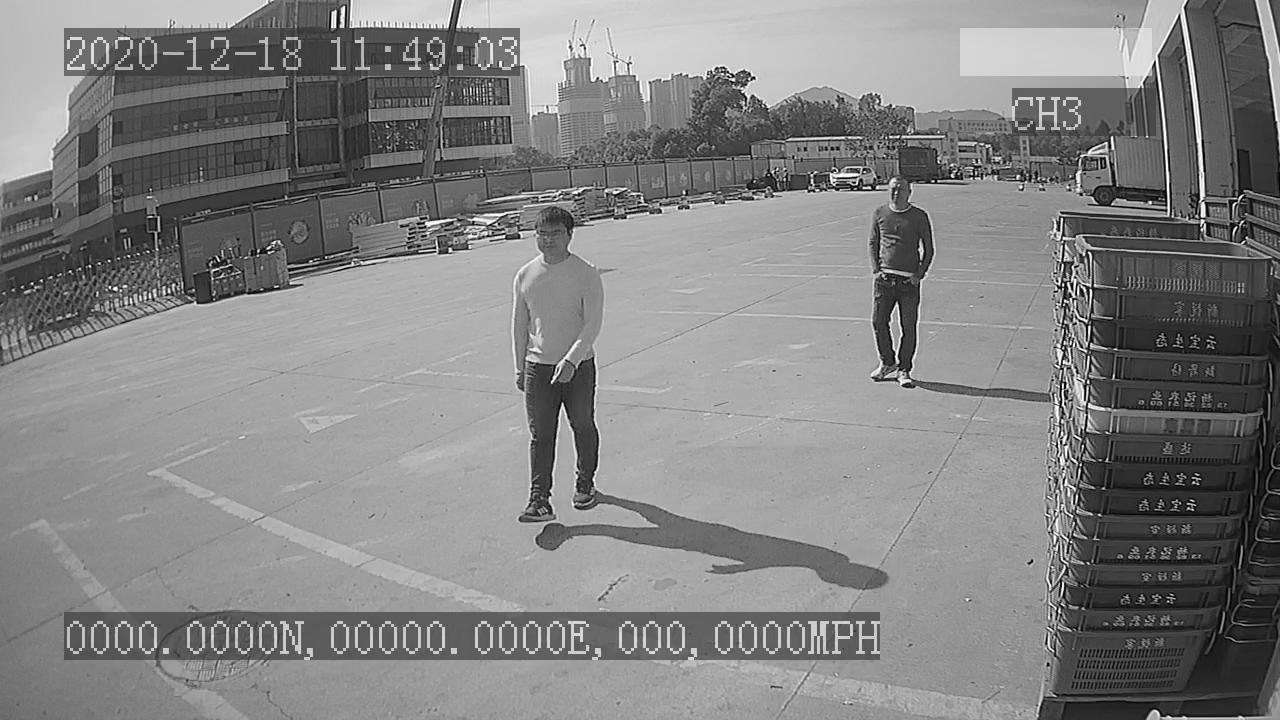person: (508, 204, 609, 529), (865, 170, 940, 392)
